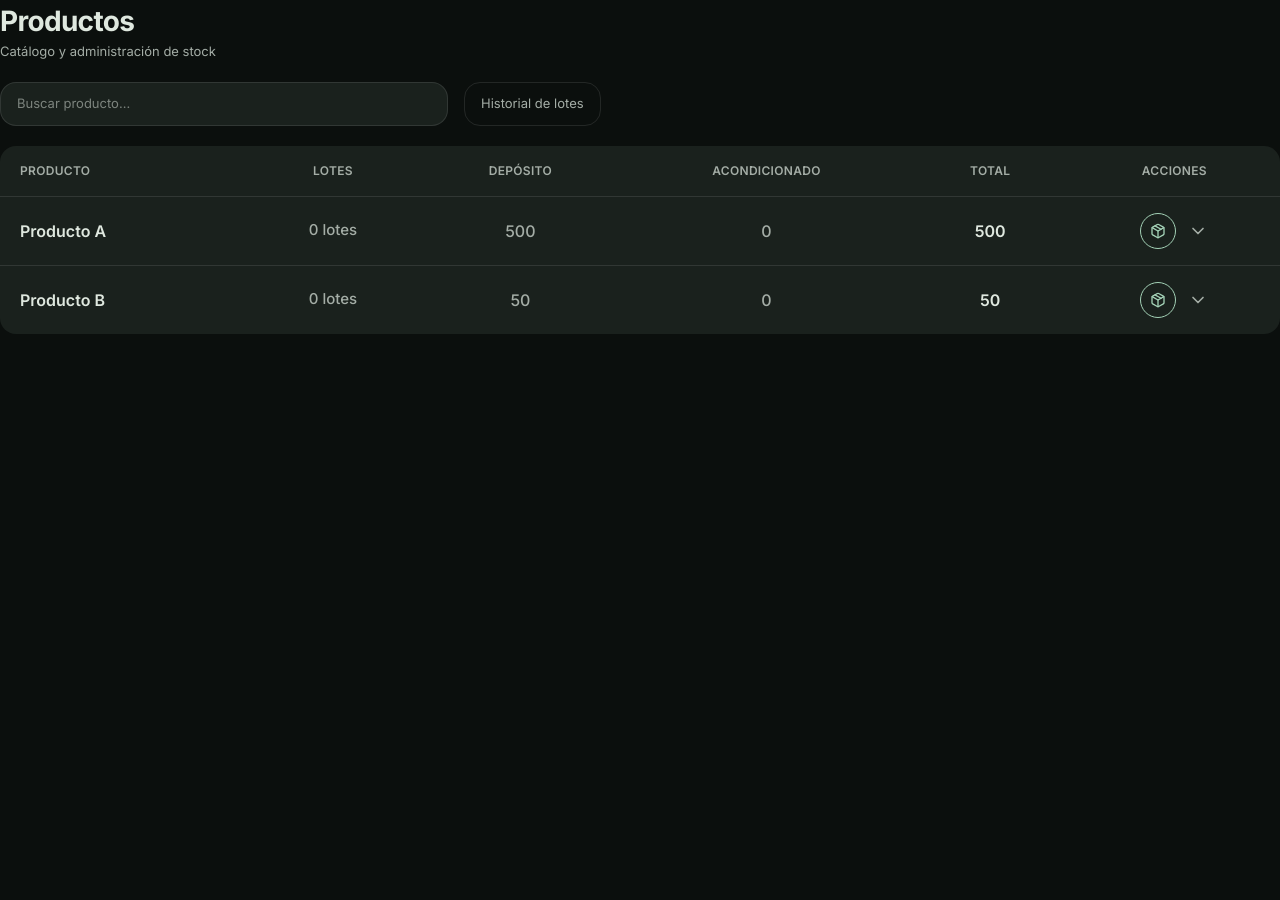
Test: ProductosPage › usuario con grant de gestión de stock: ve el botón y puede abrir el modal
Expected: the heading "Productos" is shown, [0,4,134,38]
What coordinates should you click on to do the following:
click the button named "Gestionar stock" in the row of "Producto A"
I would click on:
 (1158, 230)
Its box is [1140,212,1176,248].
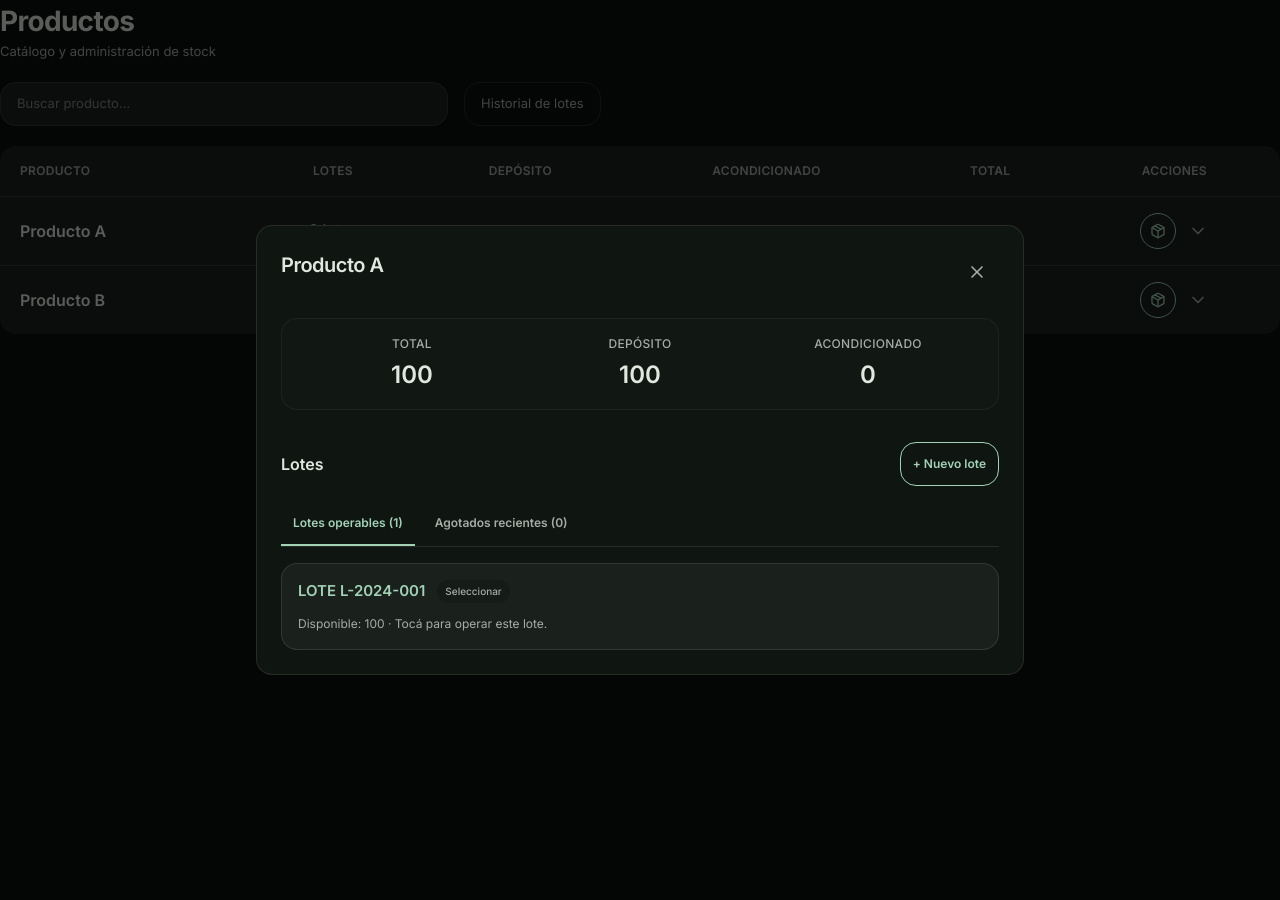
Expected: the text "LOTE L-2024-001" is shown, [298,580,425,603]
